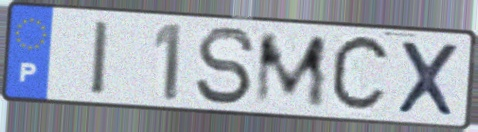1: (151, 20, 183, 104)
C: (327, 31, 395, 118)
I: (90, 17, 112, 99)
M: (251, 32, 330, 109)
S: (192, 24, 258, 108)
X: (394, 38, 462, 120)
